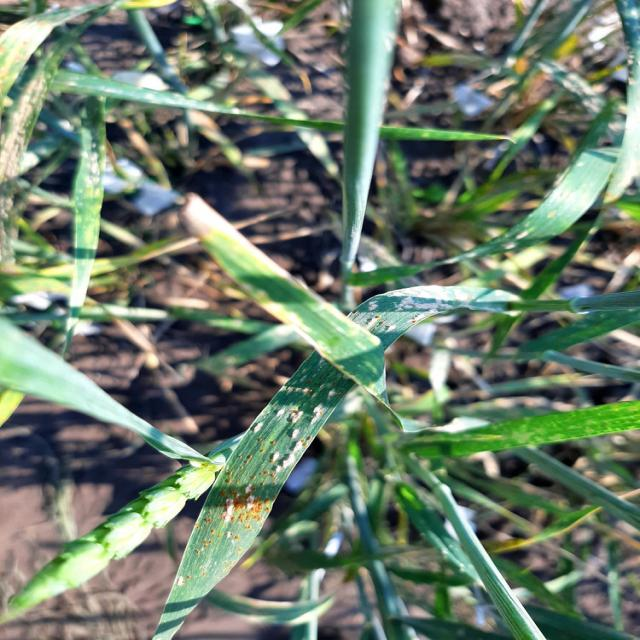wheat-powdery-mildew: (389, 285, 478, 321), (284, 441, 303, 469), (310, 403, 325, 425), (224, 499, 234, 524), (292, 410, 304, 422), (253, 422, 264, 434), (247, 495, 254, 509), (292, 429, 300, 439), (272, 452, 279, 461), (275, 465, 282, 473), (277, 409, 284, 416)
wheat-stemrust: (231, 493, 245, 522), (246, 497, 262, 522), (263, 498, 269, 504), (222, 491, 225, 496)
